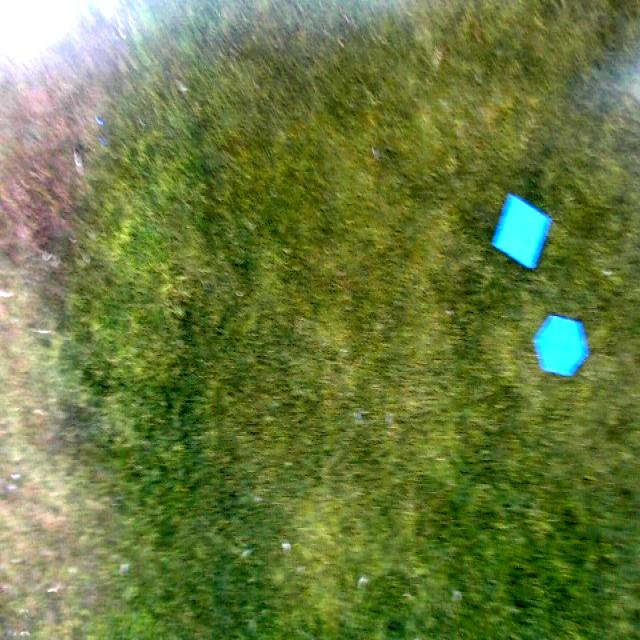blue_hexagon: (535, 312, 589, 379)
blue_square: (490, 192, 554, 269)
